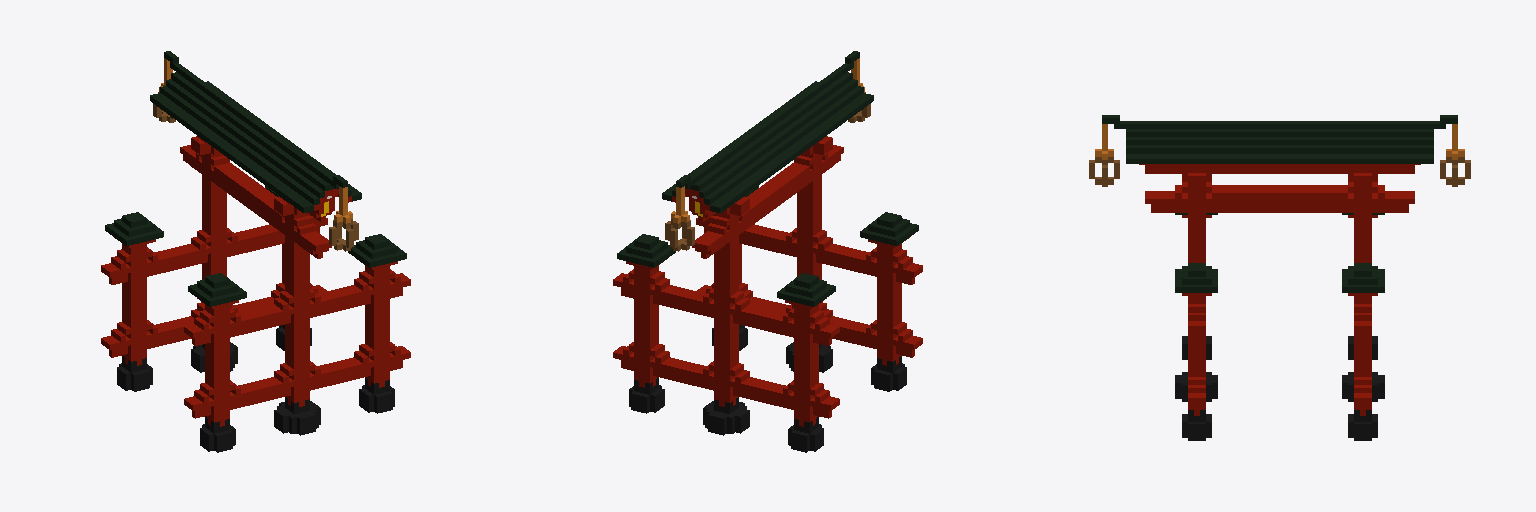
The picture shows the model from 3 angles: view 1: azimuth 30°, elevation 25°; view 2: azimuth 150°, elevation 25°; view 3: azimuth 270°, elevation 25°; orthographic projection.
Parts seen in each view (by area): view 1: gate; view 2: gate; view 3: gate.
Part boxes in pixels (x1,y1,x2,y2): gate: (101,51,410,452); gate: (613,51,922,452); gate: (1089,115,1470,440).
Size of the model in its own units: 41 by 50 by 62.
Materials: 1 (1 with a texture image).